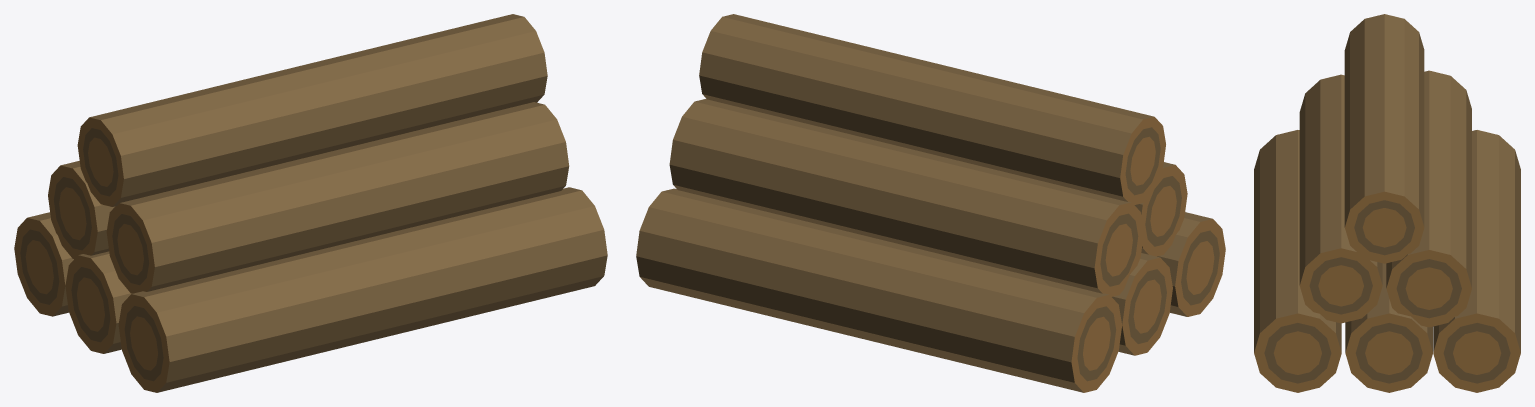
File: Logs.fbx
3 renders of one model, left to right at view 1: azimuth 30°, elevation 25°; view 2: azimuth 150°, elevation 25°; view 3: azimuth 270°, elevation 25°, orthographic. The views are drawn at different scales.
Parts seen in each view (by area): view 1: Logs; view 2: Logs; view 3: Logs.
Boxes of the visible parts, <box> form: Logs: <box>14,14,607,392</box>; Logs: <box>636,14,1225,392</box>; Logs: <box>1254,14,1520,392</box>.
Size of the model in its own units: 3.66 by 1.84 by 2.25.
